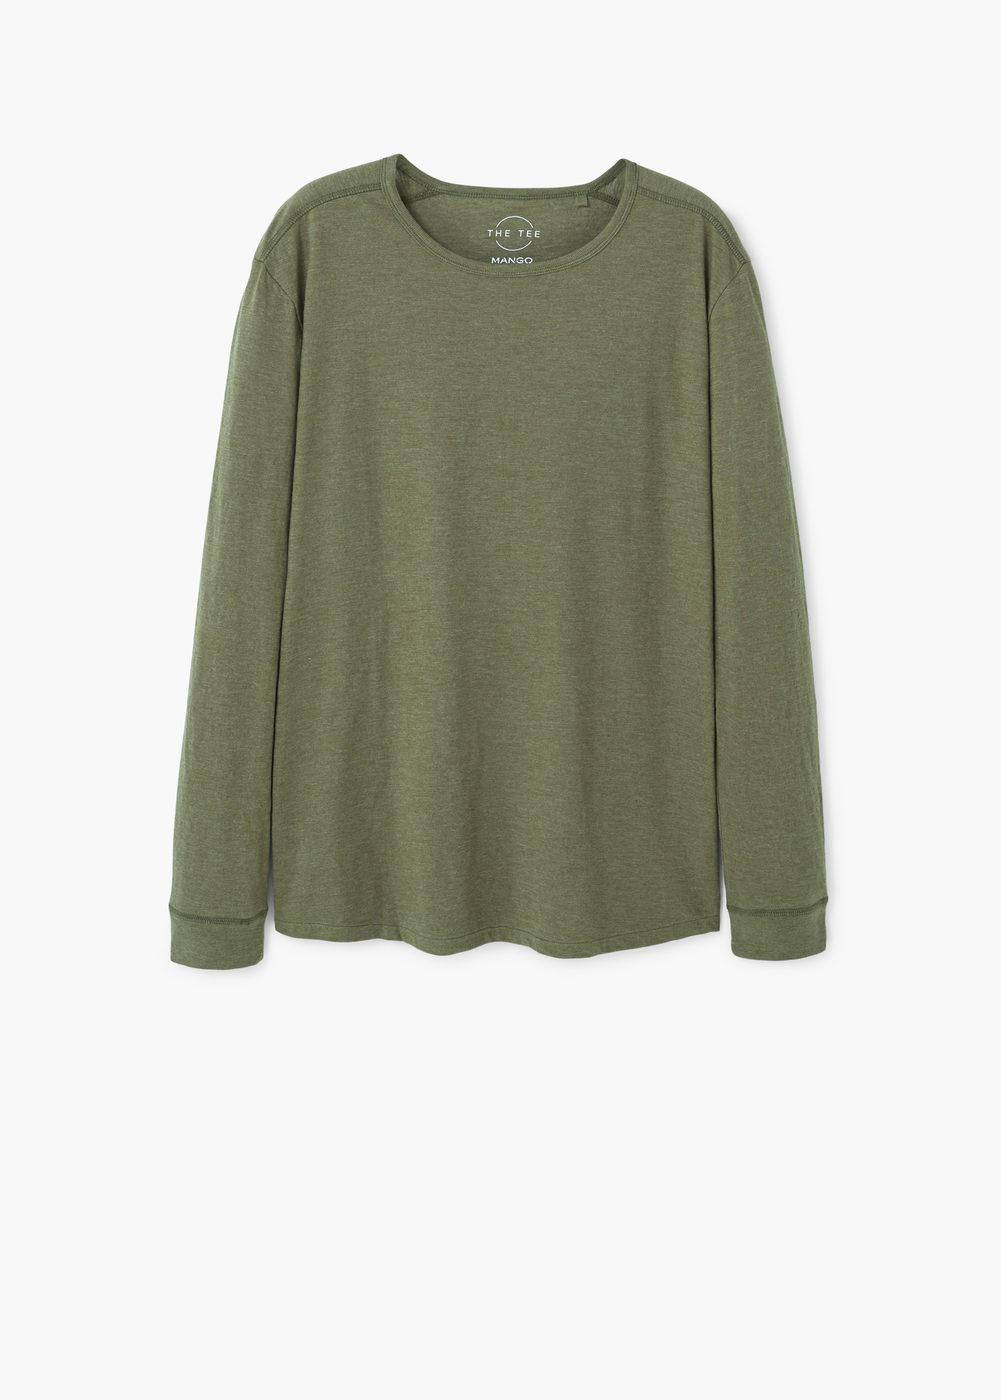teeshirt: (114, 151, 940, 1046)
